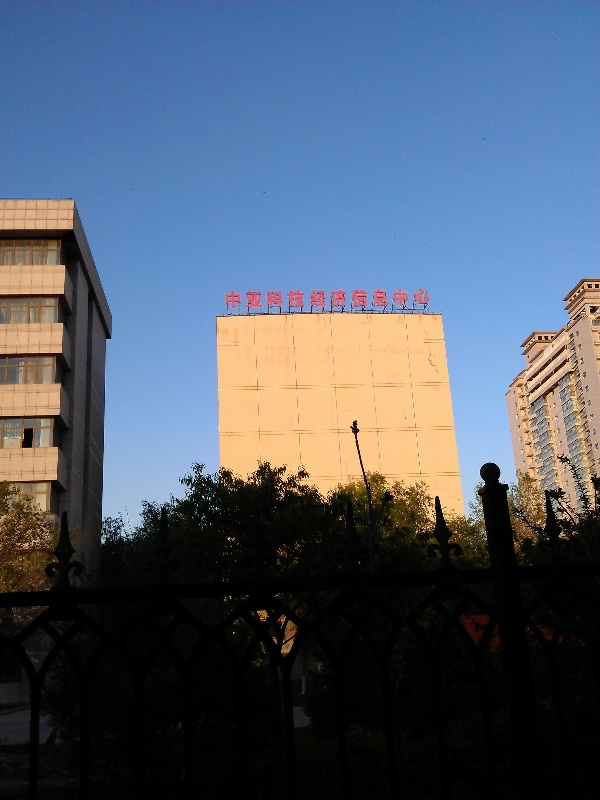text: (225, 288, 240, 309), (241, 288, 256, 309), (257, 288, 272, 309), (273, 288, 288, 309), (289, 288, 304, 309), (305, 288, 320, 309), (321, 288, 336, 309), (337, 288, 352, 309), (353, 288, 368, 309), (369, 288, 384, 309), (385, 288, 400, 309), (401, 288, 416, 309), (417, 288, 432, 309)
